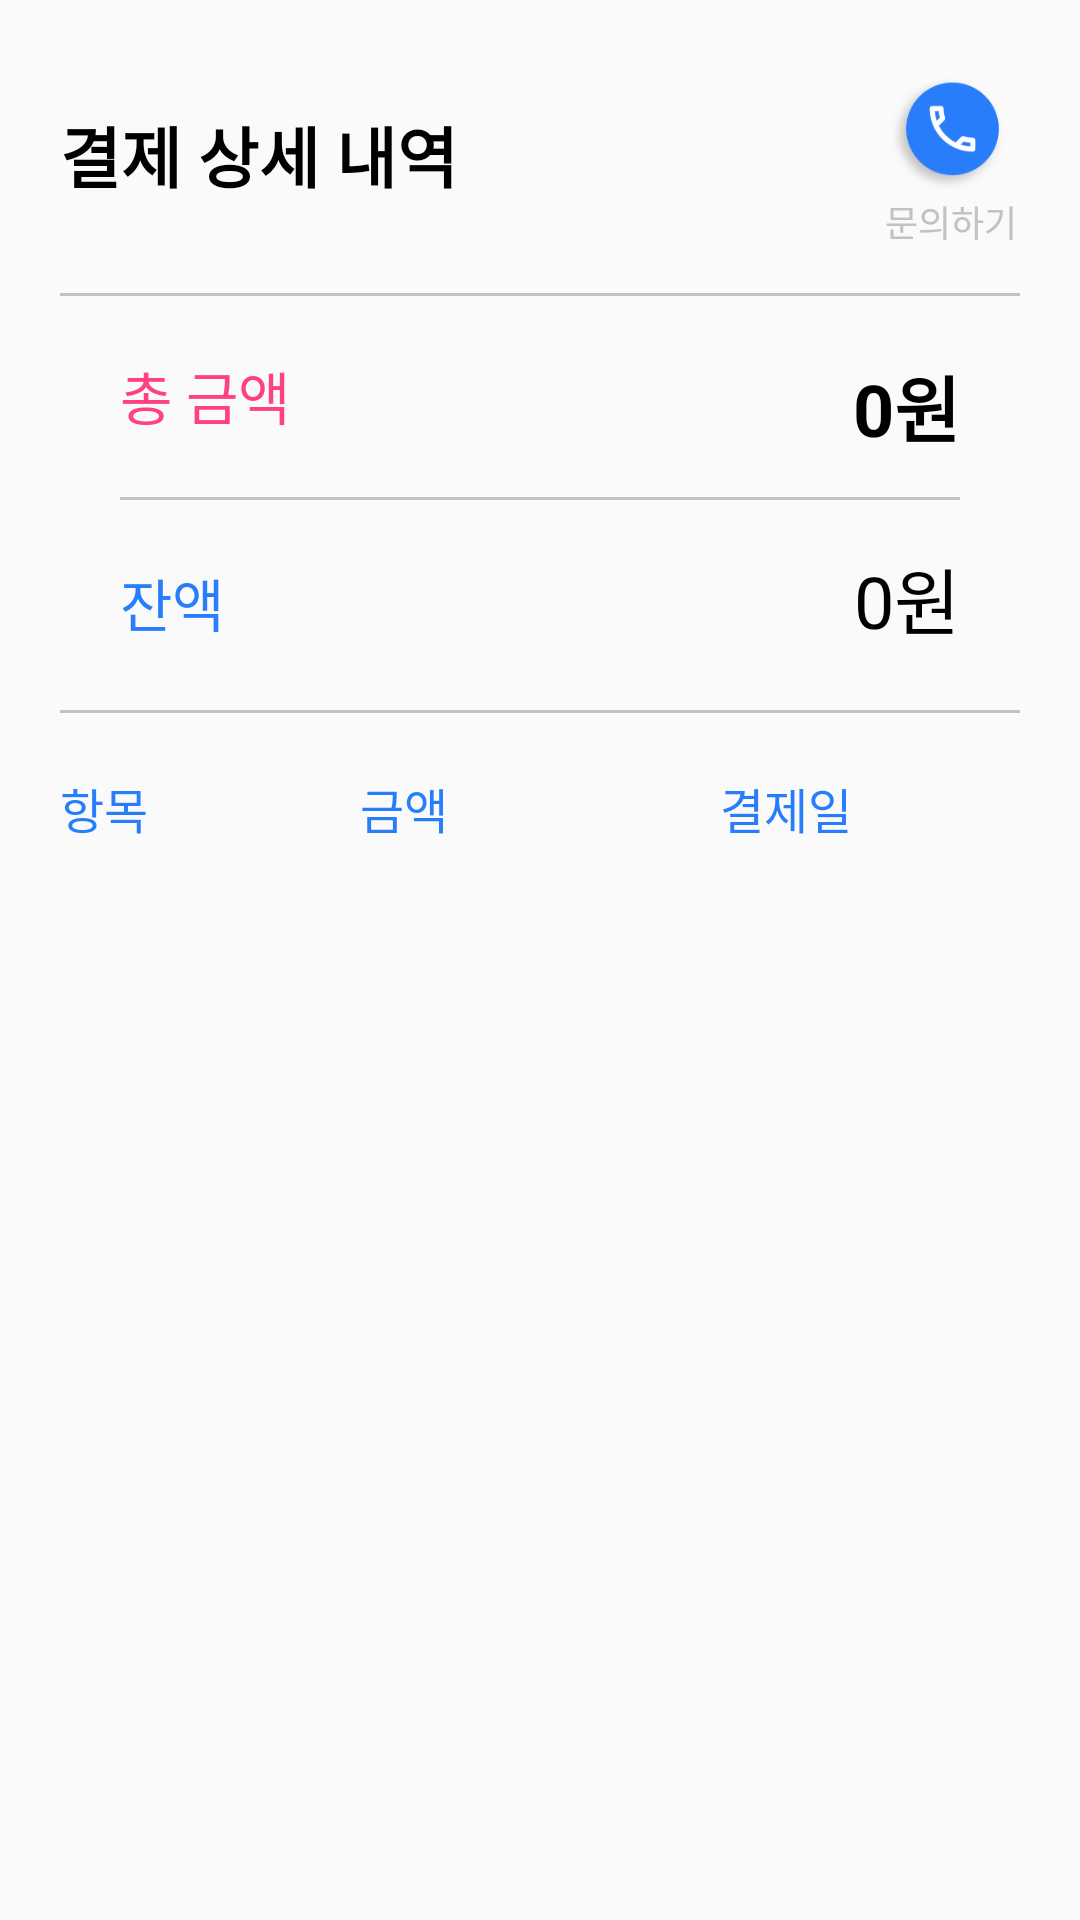

Locate icon controls on the screen. Image size 1080×1920, boxes as rect(x1, y1, x2, y2).
phone: rect(900, 82, 999, 181)
